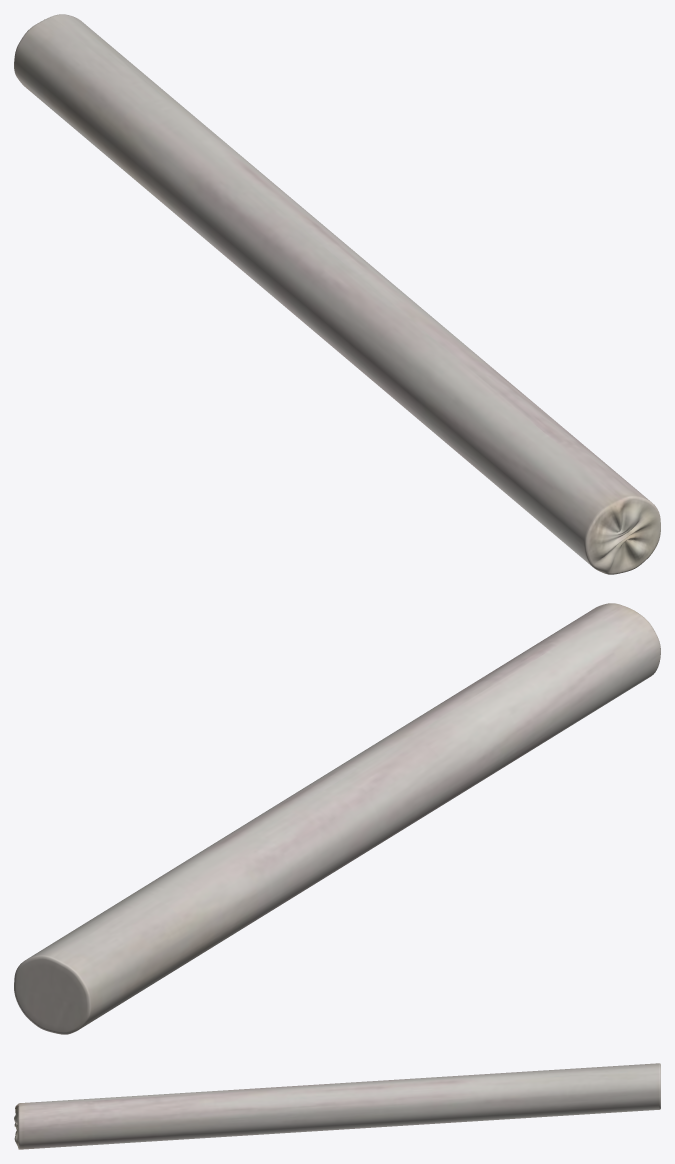
File: GarlicStalk.obj
3 views of the same model, one above another, from view 1: azimuth 30°, elevation 25°; view 2: azimuth 150°, elevation 25°; view 3: azimuth 270°, elevation 25° (orthographic). The views are drawn at different scales.
Visible parts, largest first — view 1: GarlicStalk; view 2: GarlicStalk; view 3: GarlicStalk.
Boxes of the visible parts, <box> form: GarlicStalk: <box>14,14,660,574</box>; GarlicStalk: <box>14,603,660,1034</box>; GarlicStalk: <box>14,1063,660,1149</box>.
Bounding box in the file's own units: 0.00546 × 0.0093 × 0.0675.
Materials: 1 (1 with a texture image).
